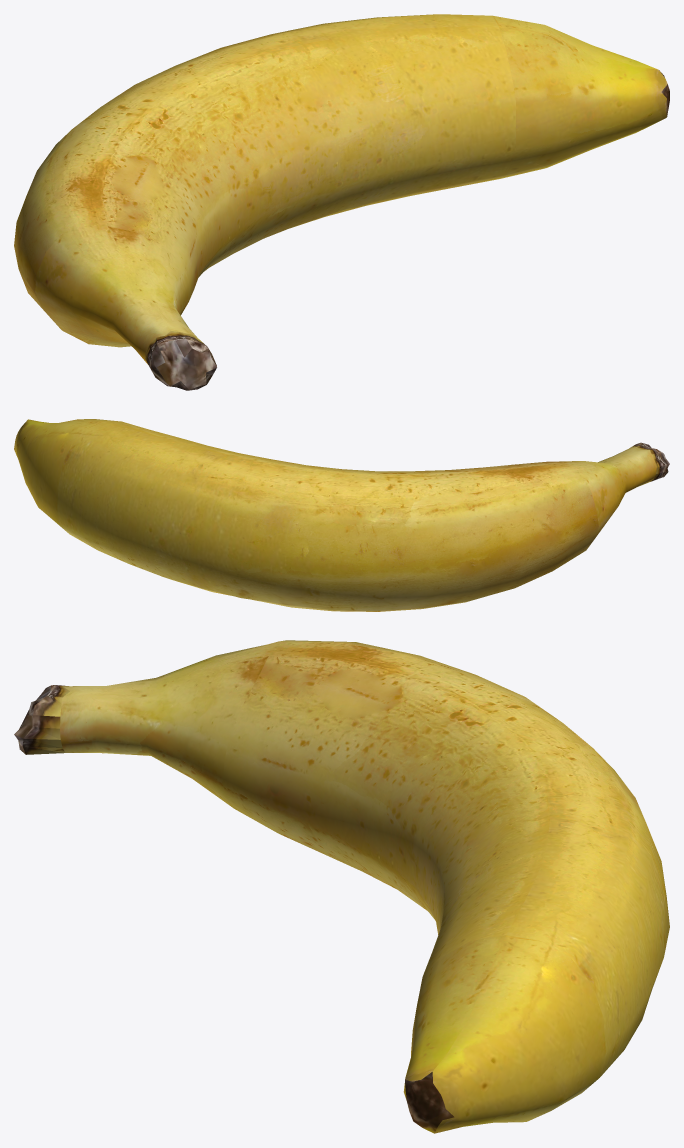
The model's file is Banana.fbx.
3 renders of one model, top to bottom at view 1: azimuth 30°, elevation 25°; view 2: azimuth 150°, elevation 25°; view 3: azimuth 270°, elevation 25°, orthographic. The views are drawn at different scales.
Visible parts, largest first — view 1: banana_4k; view 2: banana_4k; view 3: banana_4k.
Boxes of the visible parts, bbox=[...] form: banana_4k: bbox=[14, 14, 669, 390]; banana_4k: bbox=[14, 419, 669, 611]; banana_4k: bbox=[14, 640, 669, 1133].
Size of the model in its own units: 7.49 by 1.75 by 5.14.
Materials: 1 (1 with a texture image).
